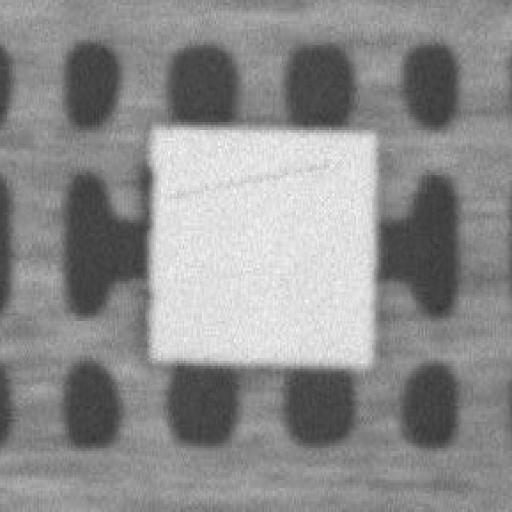DIE_CRACK: (252, 108, 488, 129)
